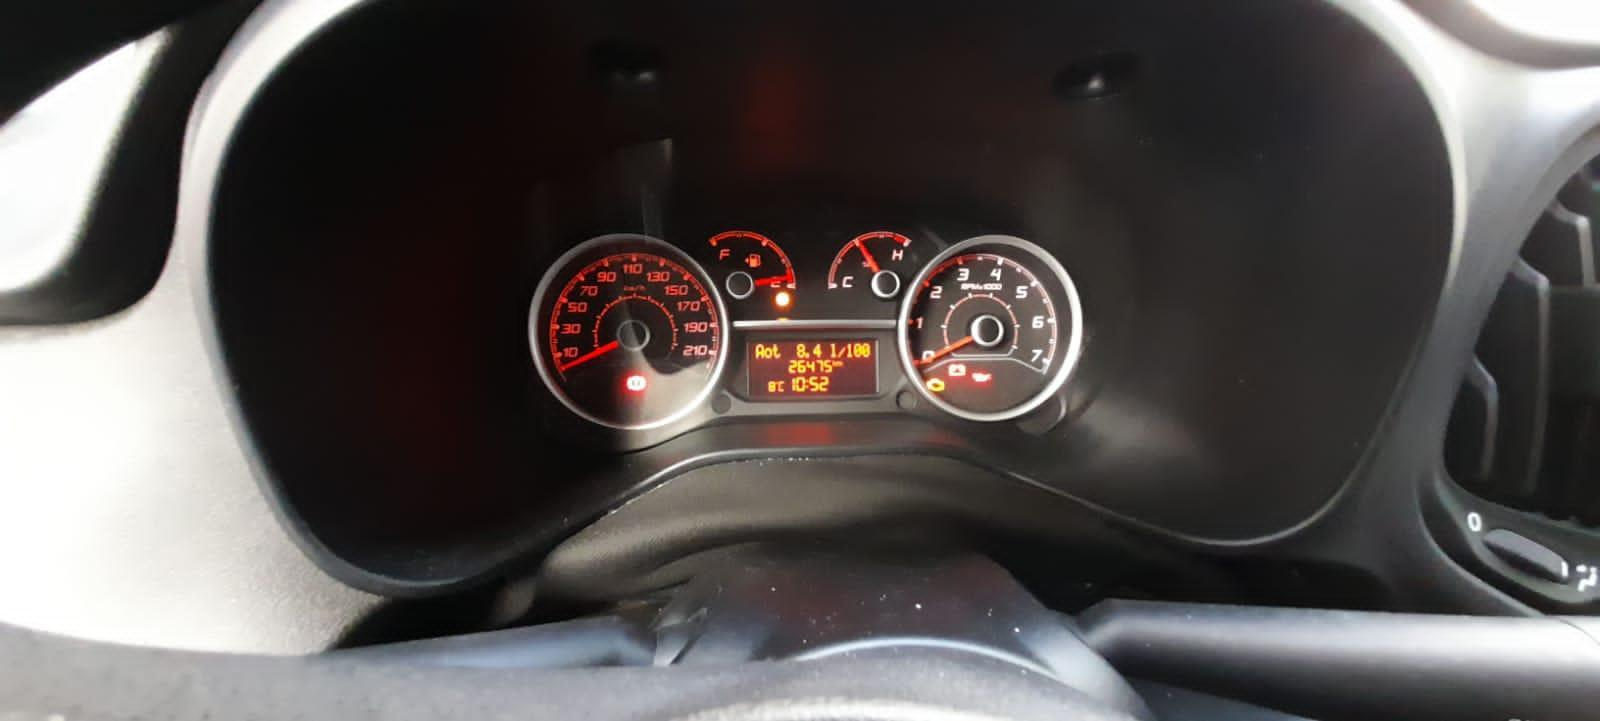,: (805, 352, 810, 358)
0: (795, 376, 805, 392), (861, 343, 870, 357), (853, 343, 861, 358)
1: (846, 343, 852, 358), (791, 377, 795, 391)
2: (819, 375, 830, 392), (787, 359, 797, 374)
4: (812, 343, 822, 358), (806, 360, 815, 373)
5: (808, 375, 819, 392), (823, 359, 832, 373)
6: (797, 359, 805, 373)
7: (815, 359, 824, 372)
8: (795, 343, 806, 358), (767, 380, 776, 392)
X: (754, 343, 764, 359), (771, 343, 781, 359), (828, 343, 836, 358), (837, 346, 846, 358), (764, 347, 772, 359), (777, 380, 785, 392), (837, 360, 844, 367), (832, 359, 837, 367), (805, 378, 809, 389)
odometer: (746, 337, 882, 398)
